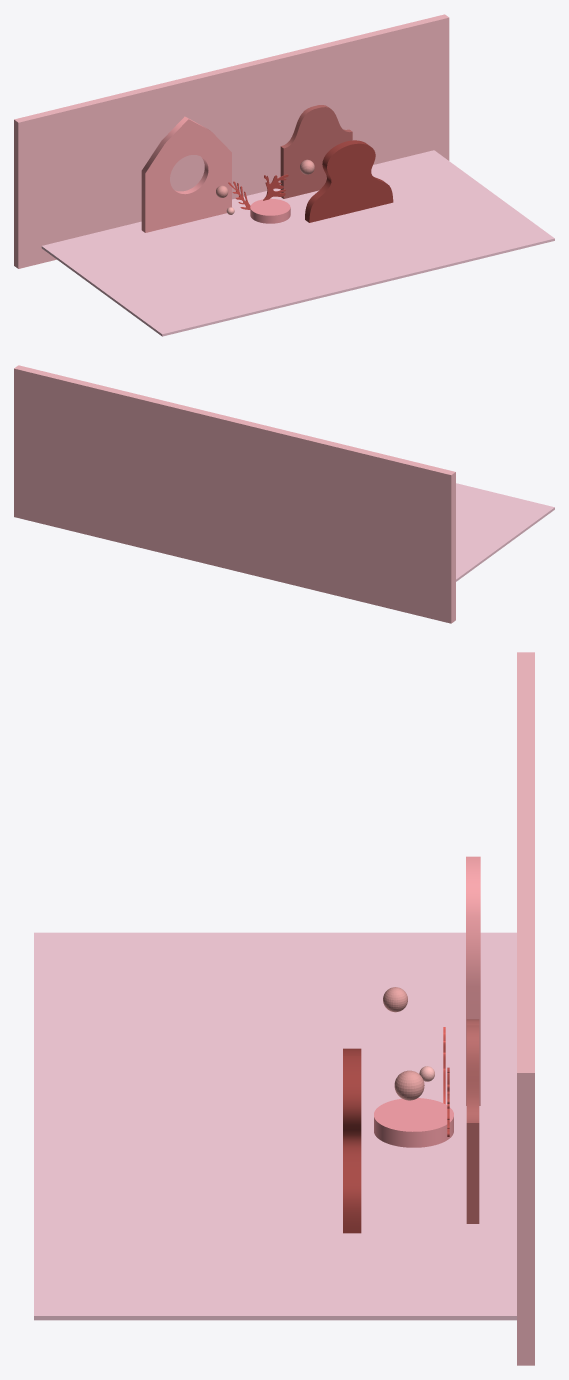
Rendered from SceneTD.gltf.
The picture shows the model from 3 angles, top to bottom: view 1: azimuth 30°, elevation 25°; view 2: azimuth 150°, elevation 25°; view 3: azimuth 270°, elevation 25°; orthographic projection. The views are drawn at different scales.
Parts seen in each view (by area): view 1: object_4, object_3, object_5, object_2, object_6, object_1; view 2: object_4, object_3; view 3: object_3, object_4, object_2, object_1, object_6, object_5.
Part boxes in pixels (x1,y1,x2,y2): object_4: (14,14,449,268); object_3: (41,150,554,336); object_5: (141,116,231,232); object_2: (305,140,393,222); object_6: (280,105,352,198); object_1: (250,198,290,223); object_4: (14,365,455,623); object_3: (456,483,554,581); object_3: (34,932,516,1320); object_4: (517,652,534,1365); object_2: (343,1048,361,1233); object_1: (374,1098,453,1147); object_6: (466,1019,479,1223); object_5: (466,856,480,1105).
Size of the model in its own units: 116 by 37.52 by 58.19.
